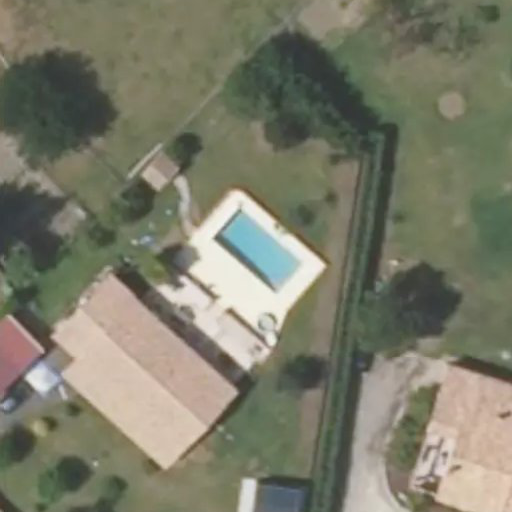pool: (203, 235, 308, 248)
